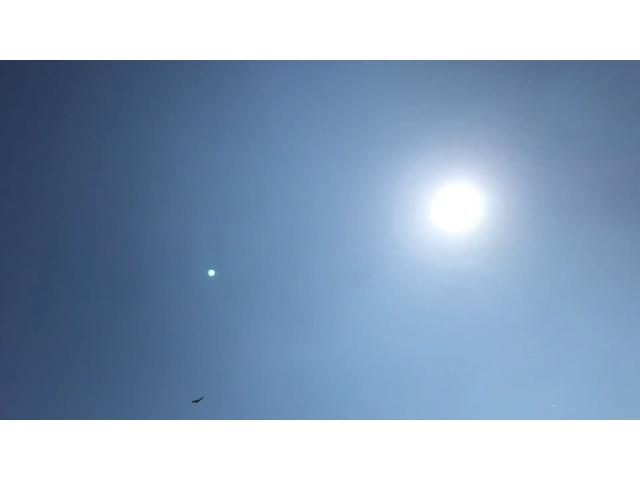Anti-Drone: (186, 384, 210, 409)
